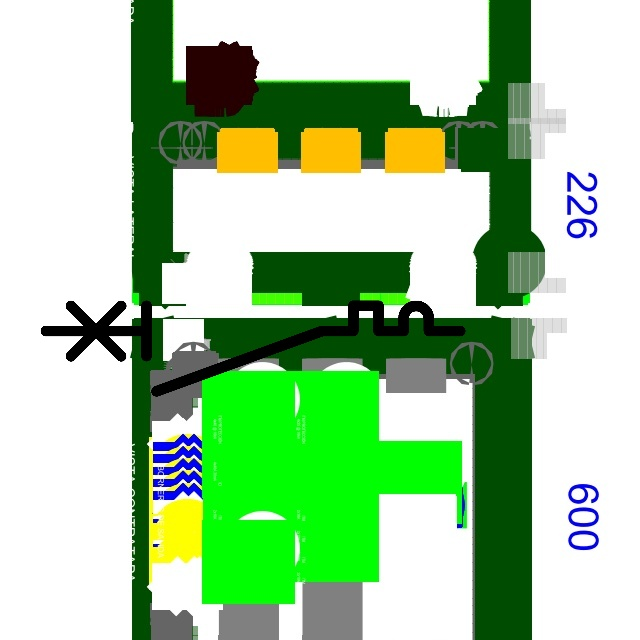interruptor_termomagnetico: (35, 295, 471, 401)
